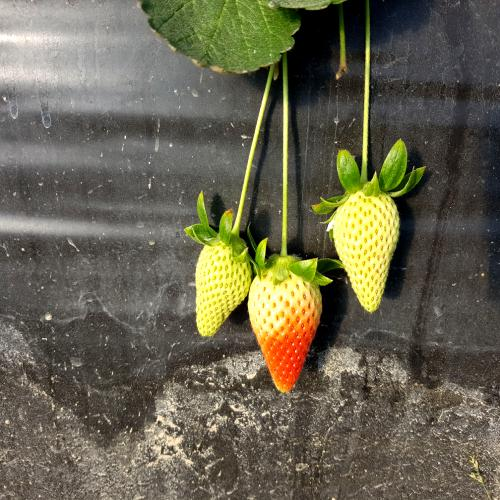partially-ripe: (243, 252, 323, 398)
unripe: (333, 184, 405, 324), (186, 218, 251, 348)
